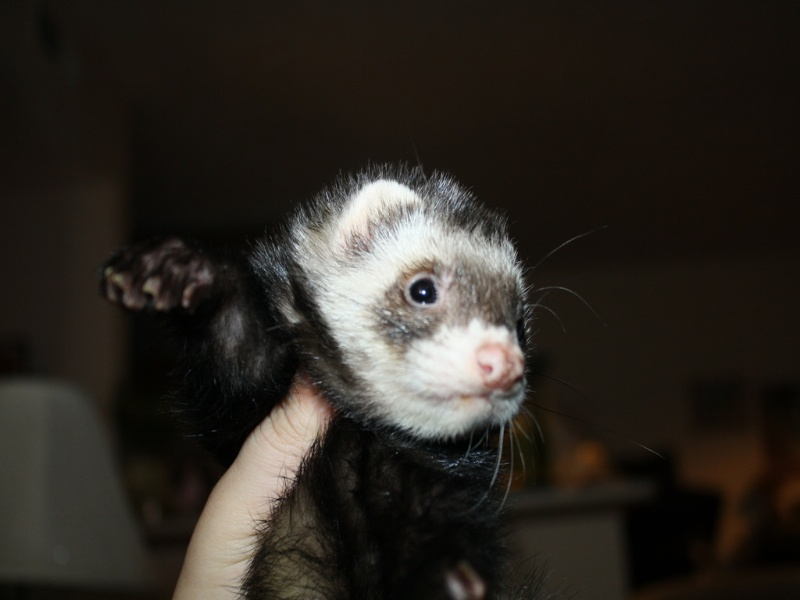minkish: (98, 151, 546, 589)
